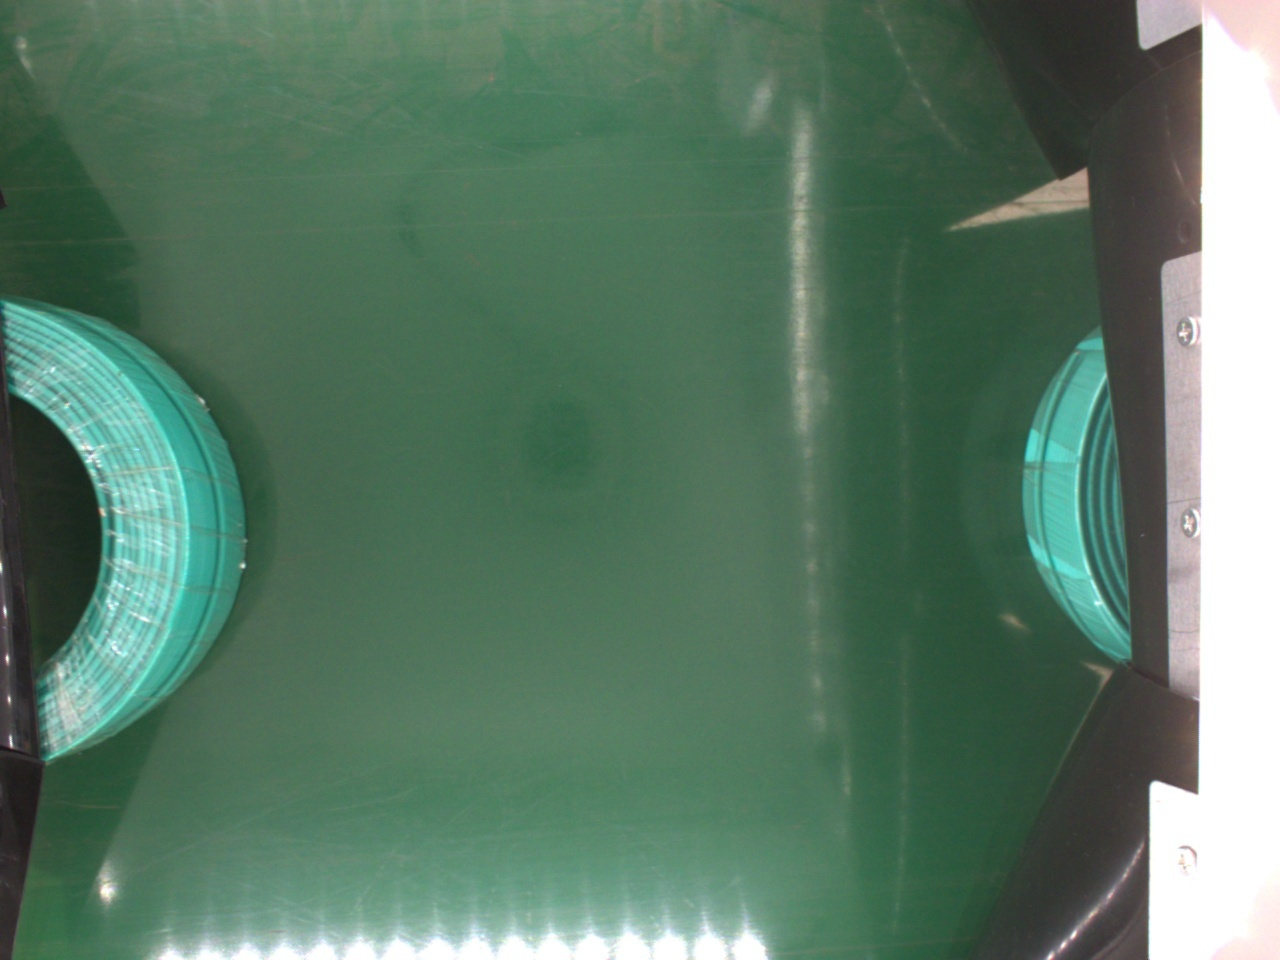green: (4, 295, 248, 776), (1021, 325, 1136, 674)
